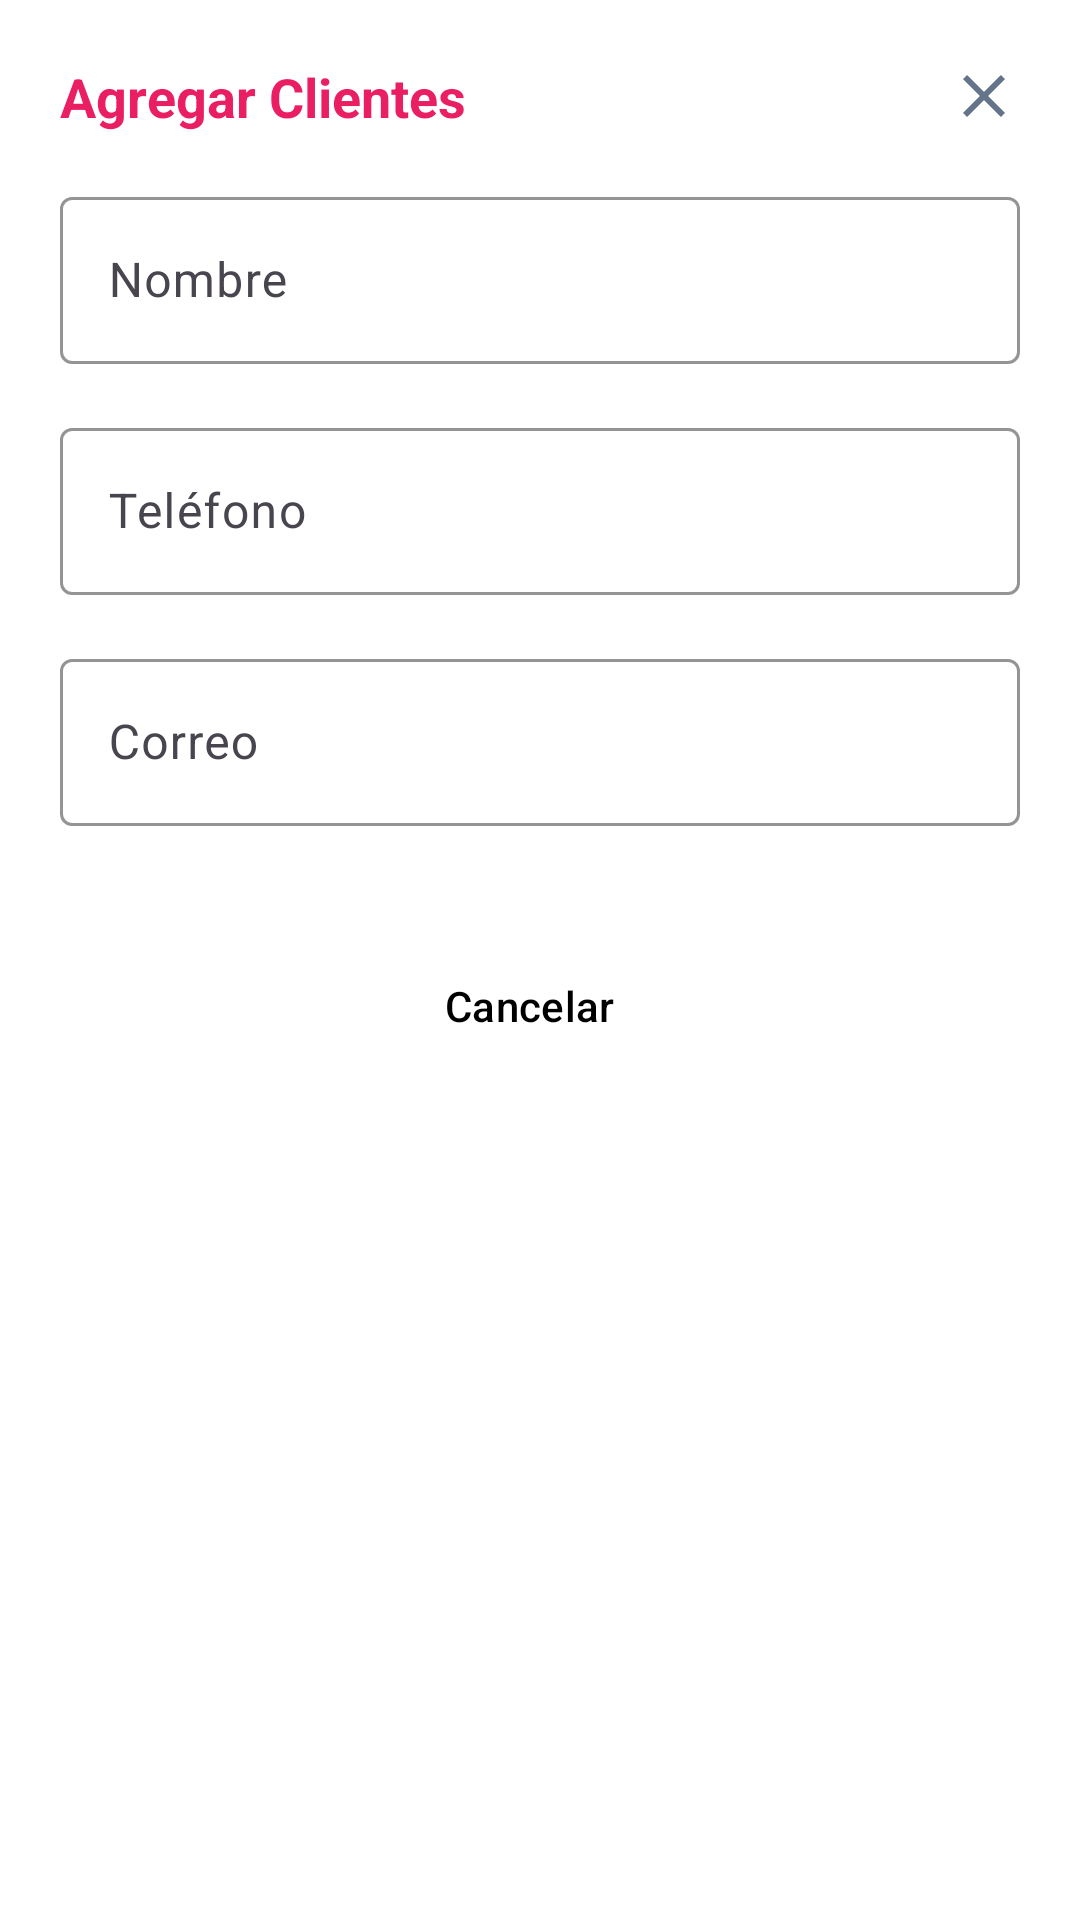

Point at icon controls on the screen. Image size 1080x1920, points as (x,y).
Cerrar: (984,96)
